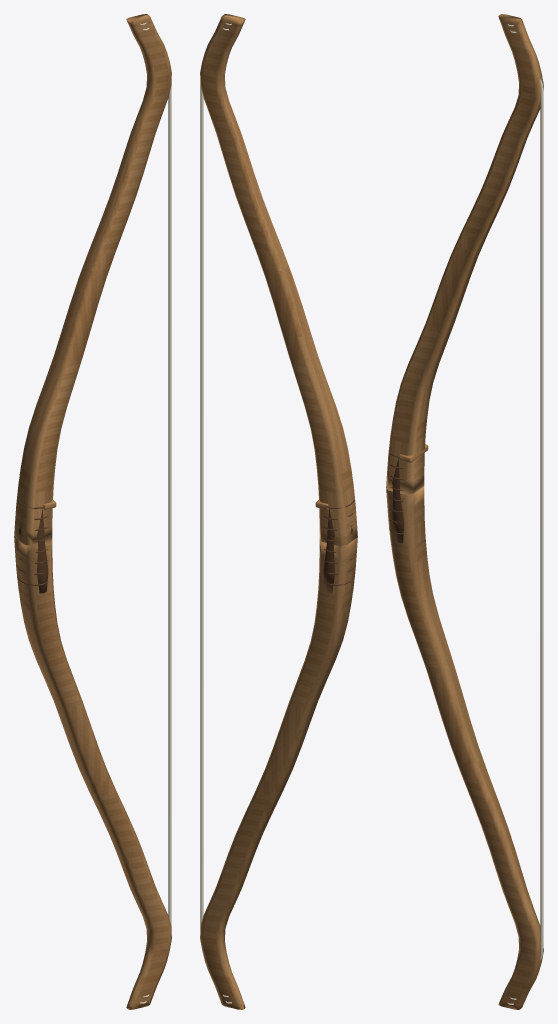
File: bow.glb
3 renders of one model, left to right at view 1: azimuth 30°, elevation 25°; view 2: azimuth 150°, elevation 25°; view 3: azimuth 330°, elevation 25°, orthographic.
Parts seen in each view (by area): view 1: SM_bow; view 2: SM_bow; view 3: SM_bow.
Boxes of the visible parts, x1=… form: SM_bow: x1=14, y1=14, x2=171, y2=1009; SM_bow: x1=200, y1=14, x2=357, y2=1009; SM_bow: x1=386, y1=14, x2=543, y2=1009.
Bounding box in the file's own units: 0.2174 × 1.35 × 0.048.
Materials: 3 (1 with a texture image).
